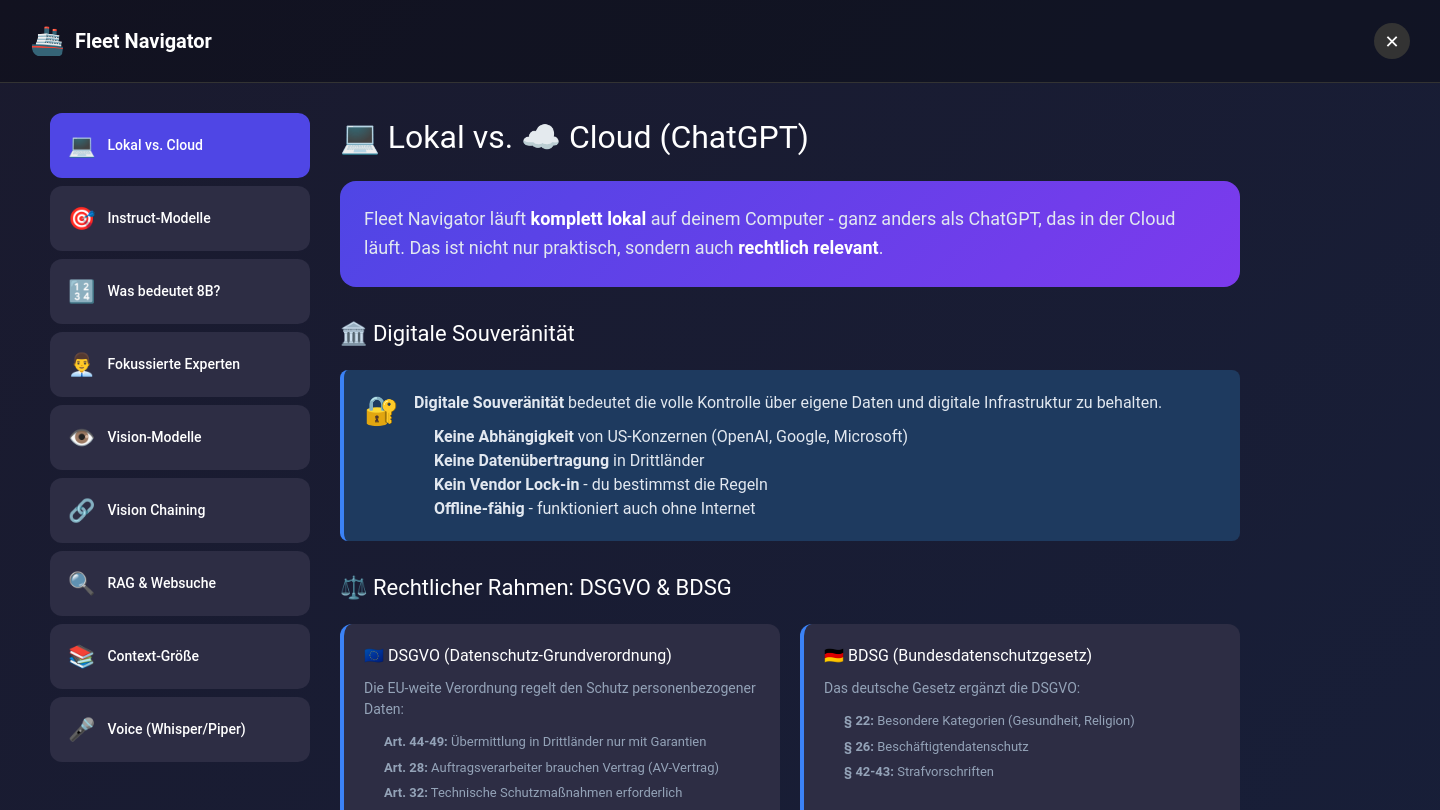
it: HelpView.vue › wechselt Topic bei Klick
This screenshot has width=1440, height=810.
Click the button with class "topic-btn" showing "👁️ Vision-Modelle": (180, 438) [50,405,310,470]
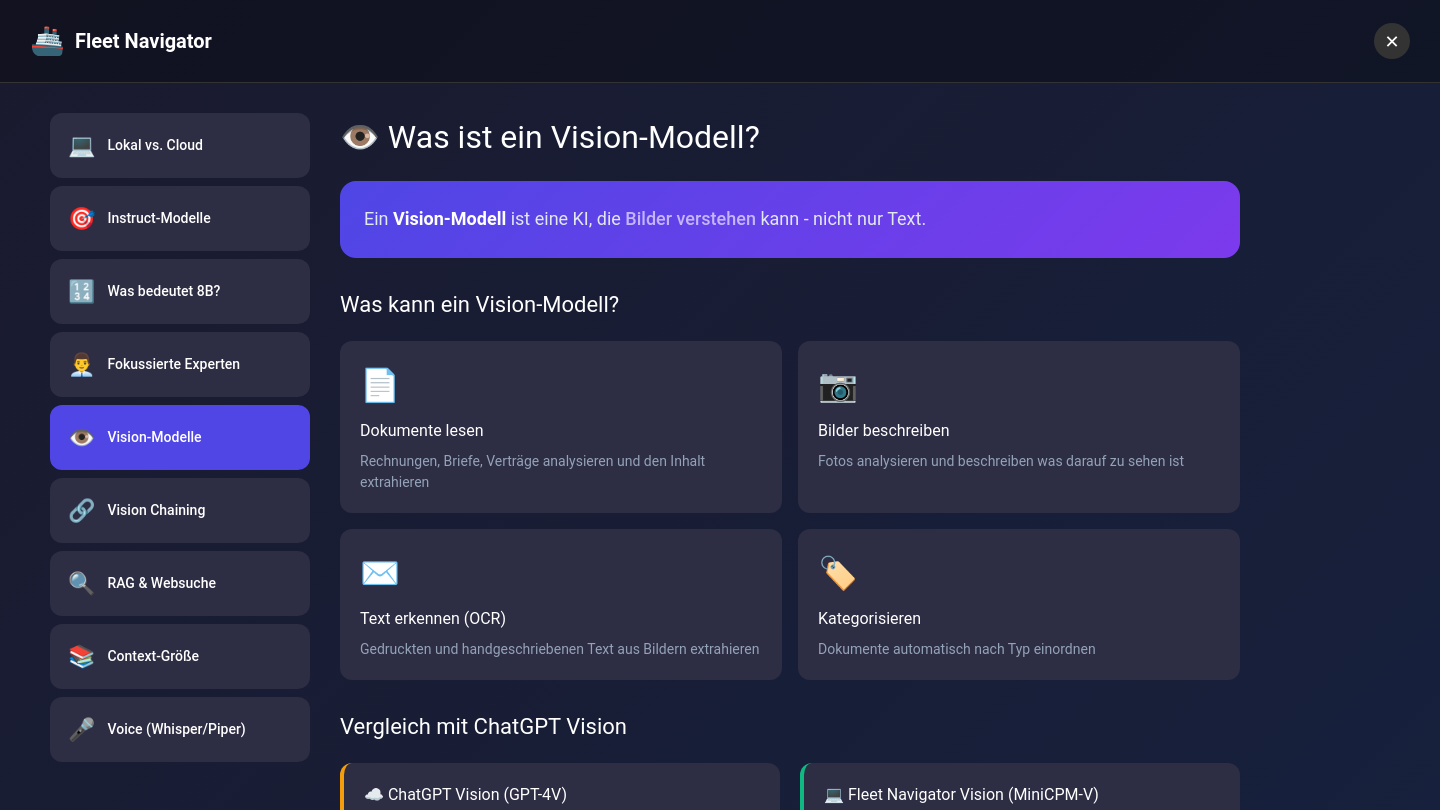
Check: the heading "👁️ Was ist ein Vision-Modell?" is shown, box [340,118,760,156]
